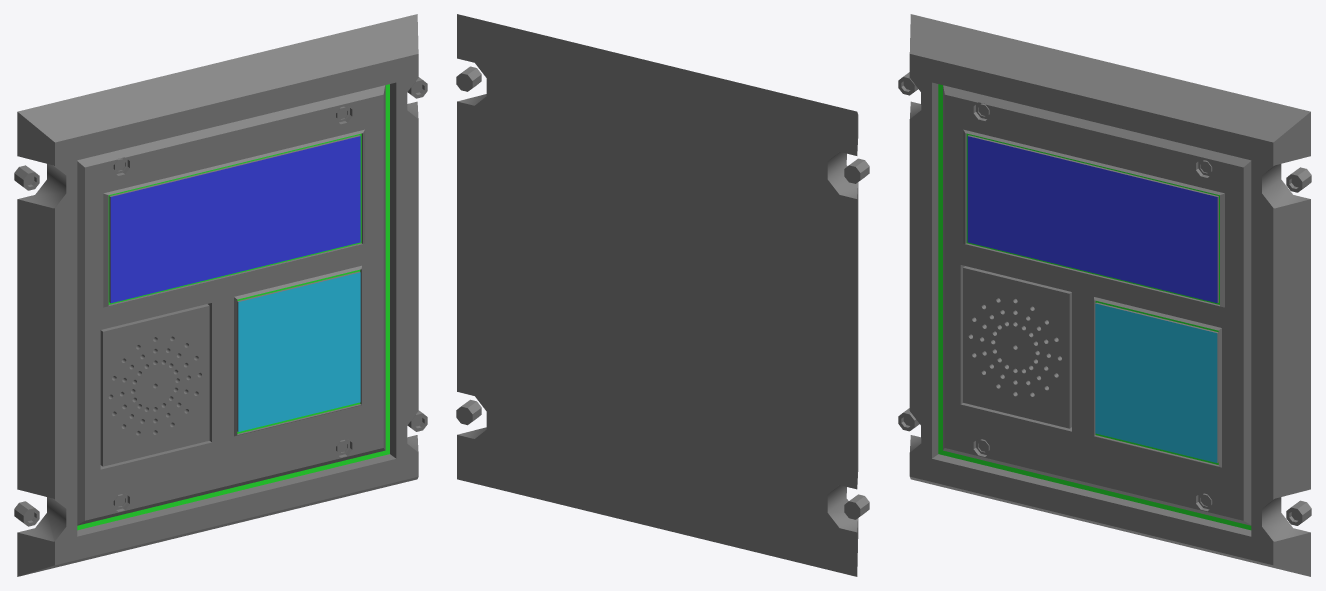
Rendered from Panel_Normal.FBX.
The picture shows the model from 3 angles, left to right: view 1: azimuth 30°, elevation 25°; view 2: azimuth 150°, elevation 25°; view 3: azimuth 330°, elevation 25°; orthographic projection.
Parts seen in each view (by area): view 1: Panel_Normal, Panel_Outline; view 2: Panel_Normal; view 3: Panel_Normal, Panel_Outline.
Part boxes in pixels (bbox=[...]): Panel_Normal: bbox=[14, 14, 427, 576]; Panel_Outline: bbox=[77, 84, 389, 530]; Panel_Normal: bbox=[456, 14, 869, 576]; Panel_Normal: bbox=[898, 14, 1311, 576]; Panel_Outline: bbox=[938, 84, 1251, 530].
Bounding box in the file's own units: 182 × 200 × 15.
